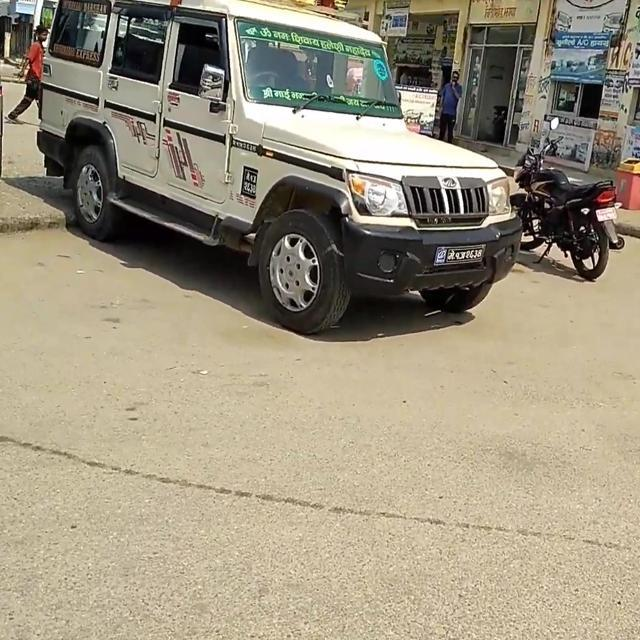license_plate: (417, 236, 506, 272)
